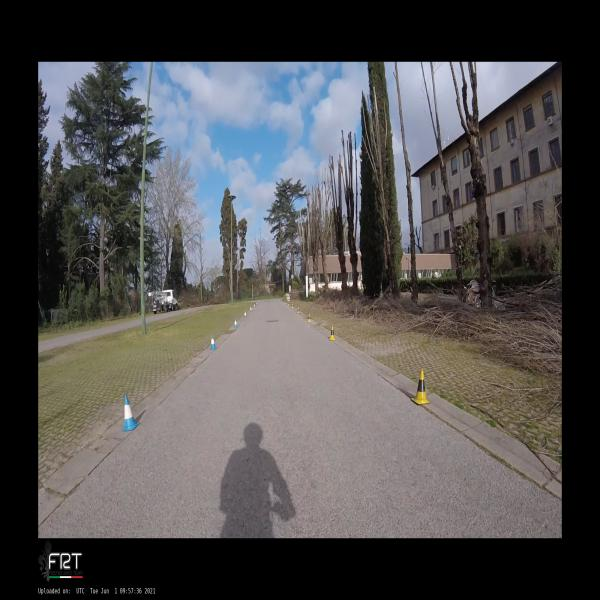blue_cone: (121, 394, 140, 431), (210, 334, 218, 349), (234, 318, 238, 327)
yellow_cone: (411, 369, 430, 405), (328, 326, 336, 340), (308, 314, 310, 322)
